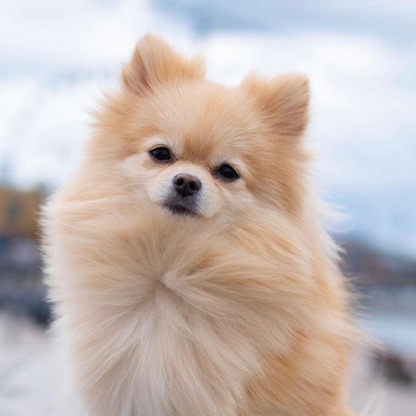Pomeranian: (73, 28, 325, 405)
